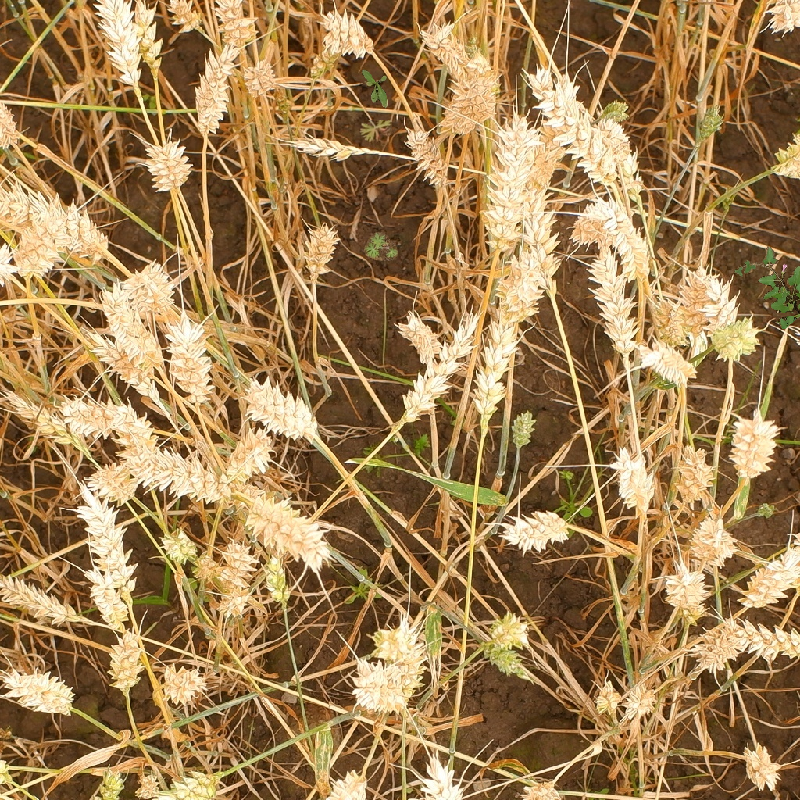spikelet: (393, 308, 482, 426), (526, 60, 613, 178), (1, 178, 112, 257), (477, 112, 542, 245), (501, 194, 563, 321), (241, 485, 334, 568), (72, 486, 137, 596), (467, 317, 522, 433), (584, 243, 640, 351), (99, 280, 162, 371), (591, 192, 656, 279), (240, 372, 322, 440), (129, 442, 223, 501), (165, 311, 217, 401), (189, 41, 239, 133), (372, 614, 428, 696), (740, 532, 799, 607), (1, 661, 77, 718), (85, 330, 156, 390), (725, 405, 782, 479), (450, 47, 503, 126), (499, 501, 576, 555), (680, 259, 740, 327), (597, 111, 646, 192), (95, 1, 143, 81), (401, 122, 456, 189), (139, 131, 195, 194), (350, 659, 413, 715), (213, 536, 256, 618), (609, 443, 659, 513), (81, 562, 134, 628), (734, 612, 799, 665), (102, 624, 151, 693), (124, 256, 177, 319), (1, 580, 75, 625), (139, 762, 227, 799), (315, 9, 376, 61), (658, 559, 710, 620), (692, 614, 744, 674), (221, 425, 276, 481), (10, 220, 63, 278), (640, 335, 697, 387), (296, 215, 342, 279), (686, 509, 738, 564), (58, 391, 116, 440), (82, 454, 139, 503), (415, 755, 477, 800), (669, 437, 712, 500), (393, 308, 442, 362), (738, 737, 785, 793), (709, 312, 761, 362), (482, 602, 535, 651), (128, 1, 165, 71), (110, 400, 160, 451), (157, 657, 209, 706), (479, 635, 531, 678), (206, 1, 252, 48), (156, 518, 200, 566), (620, 674, 662, 722), (260, 548, 296, 604), (317, 766, 373, 800), (688, 99, 726, 149), (769, 120, 799, 183), (242, 54, 281, 101), (360, 224, 404, 264), (506, 404, 540, 450), (159, 1, 205, 35), (514, 773, 570, 800), (589, 675, 623, 719), (90, 761, 128, 800), (761, 1, 800, 37), (1, 225, 17, 287), (1, 101, 20, 153)
weed: (734, 247, 800, 331), (350, 62, 402, 111), (364, 232, 398, 261), (359, 120, 392, 143)
